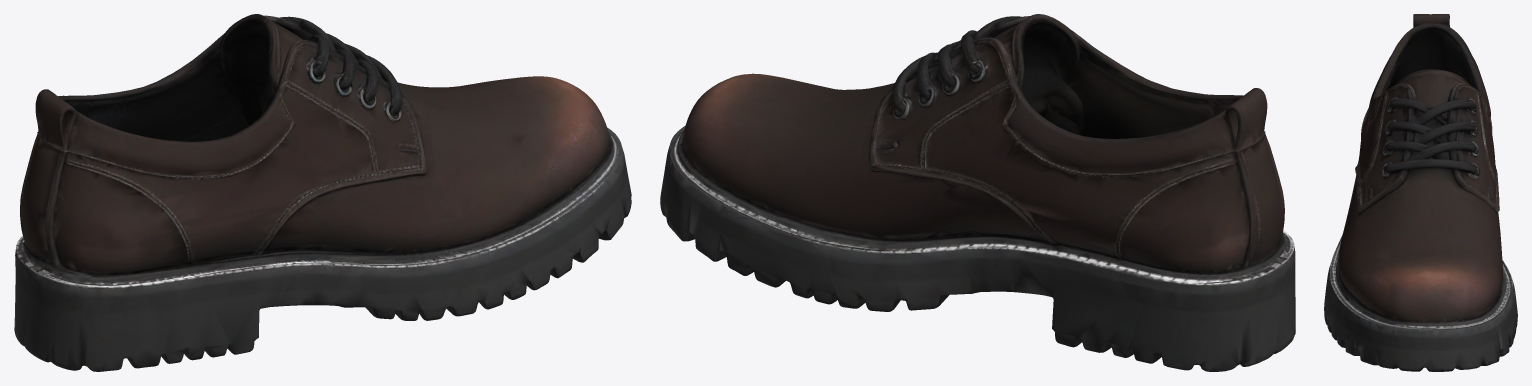
The model's file is derby.glb.
3 views of the same model, side by side, from view 1: azimuth 30°, elevation 25°; view 2: azimuth 150°, elevation 25°; view 3: azimuth 270°, elevation 25° (orthographic). The views are drawn at different scales.
Visible parts, largest first — view 1: node_0; view 2: node_0; view 3: node_0.
Boxes of the visible parts, bbox=[...] form: node_0: bbox=[14, 14, 631, 371]; node_0: bbox=[660, 14, 1295, 371]; node_0: bbox=[1324, 14, 1517, 371].
Size of the model in its own units: 1.1 by 0.4961 by 0.4311.
Materials: 1 (1 with a texture image).
